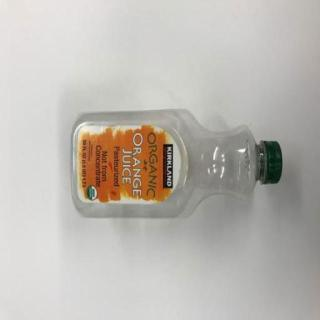Plastic-bottle: (71, 108, 284, 220)
